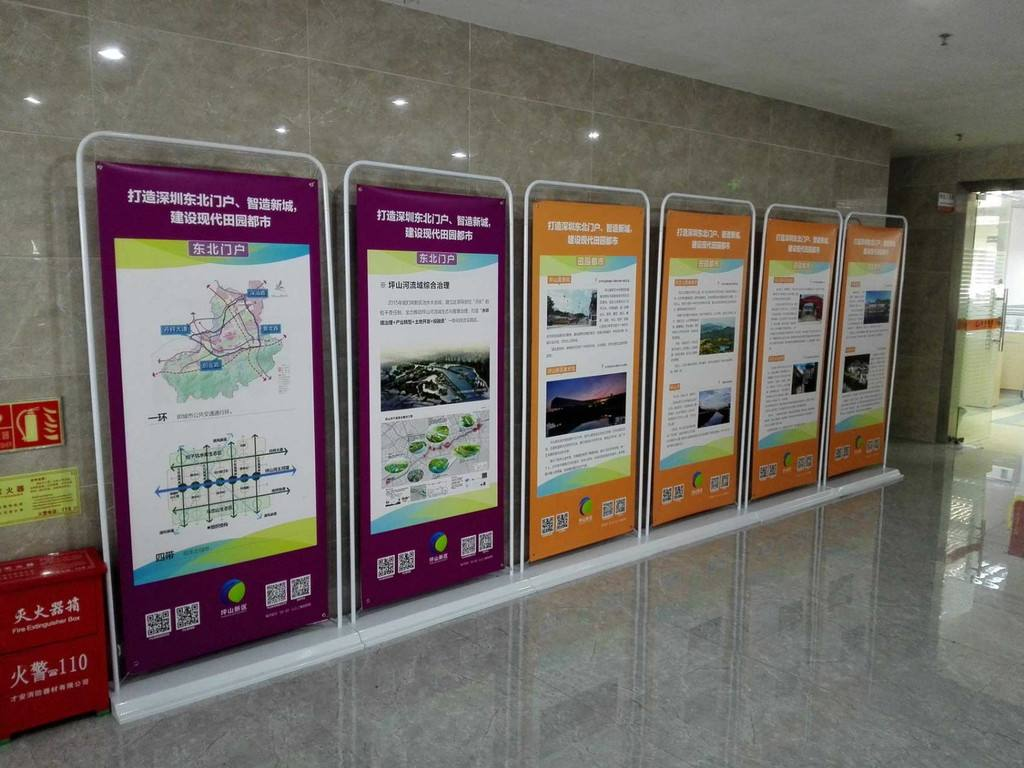bill: (94, 164, 326, 692), (356, 181, 506, 620), (531, 194, 643, 571), (651, 206, 755, 538), (753, 206, 840, 510), (826, 211, 904, 486)
